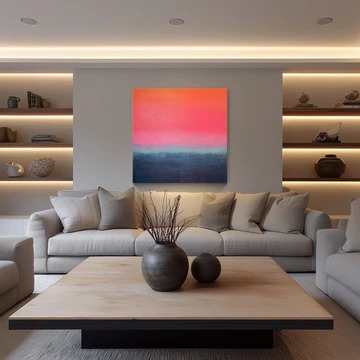painting: (132, 88, 227, 183)
